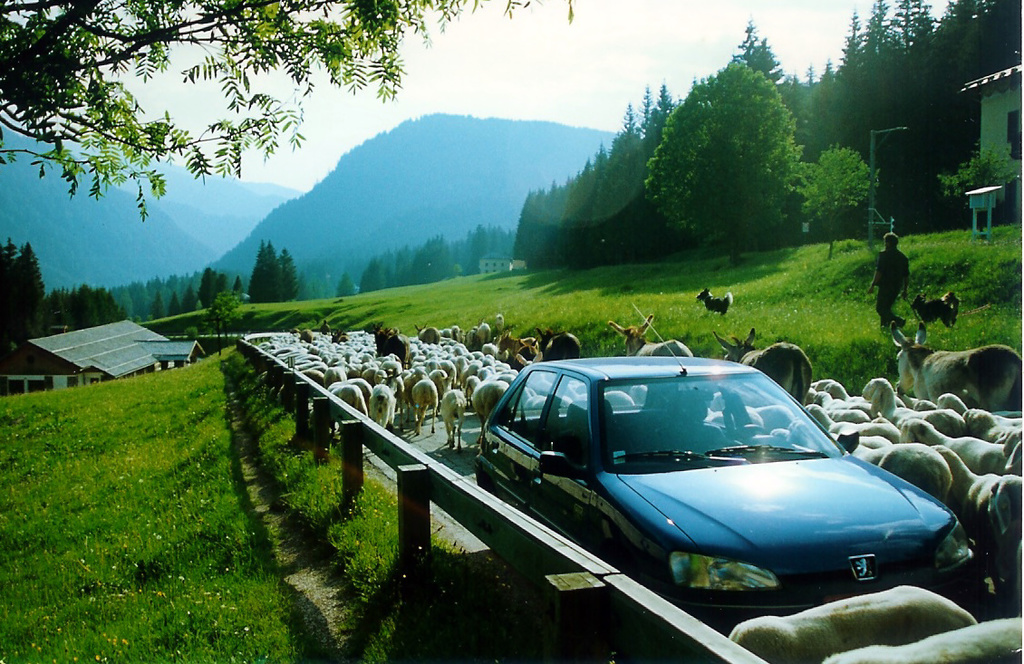cars: (459, 361, 962, 626)
